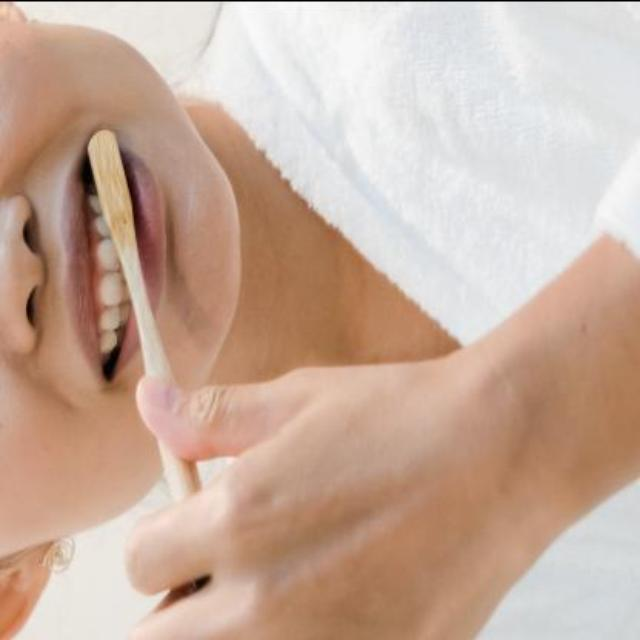toothbrush: (76, 114, 214, 502)
